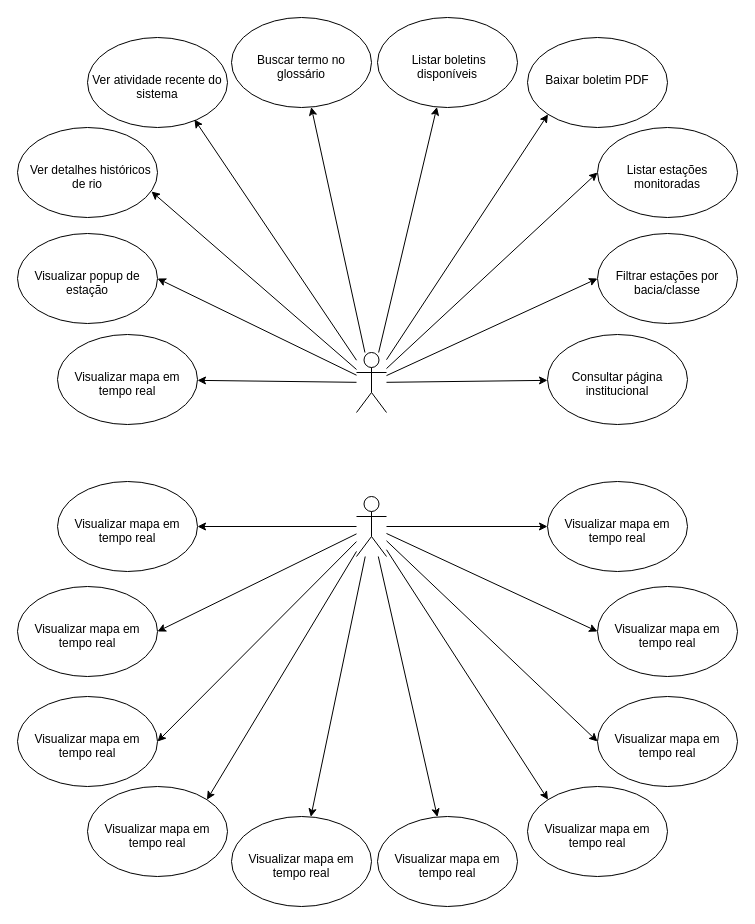
This 755x924 diagram has some shape labels left out. Here are the shapes that lost their labels. From the top down, the centre of each, then its label:
At [371,382]: "Visitante".
At [371,526]: "Administrador".
